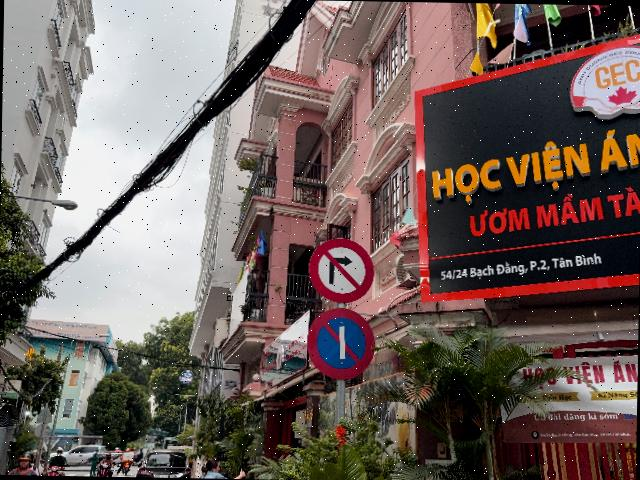cam-do-xe-ngay-le: (306, 306, 376, 380)
cam-re-phai: (308, 236, 374, 302)
